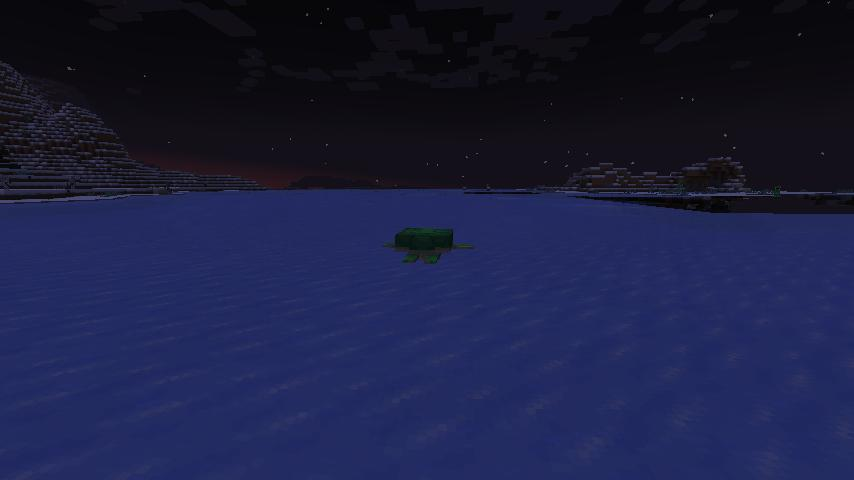turtle: (381, 222, 477, 269)
